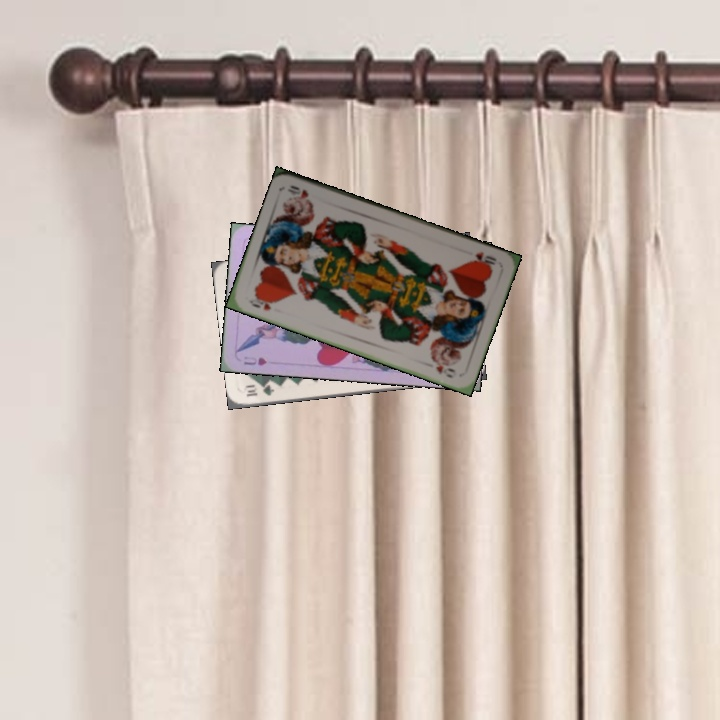G10: (242, 380, 277, 399)
HO: (245, 291, 279, 313), (470, 248, 499, 269)
HU: (240, 352, 269, 368)
